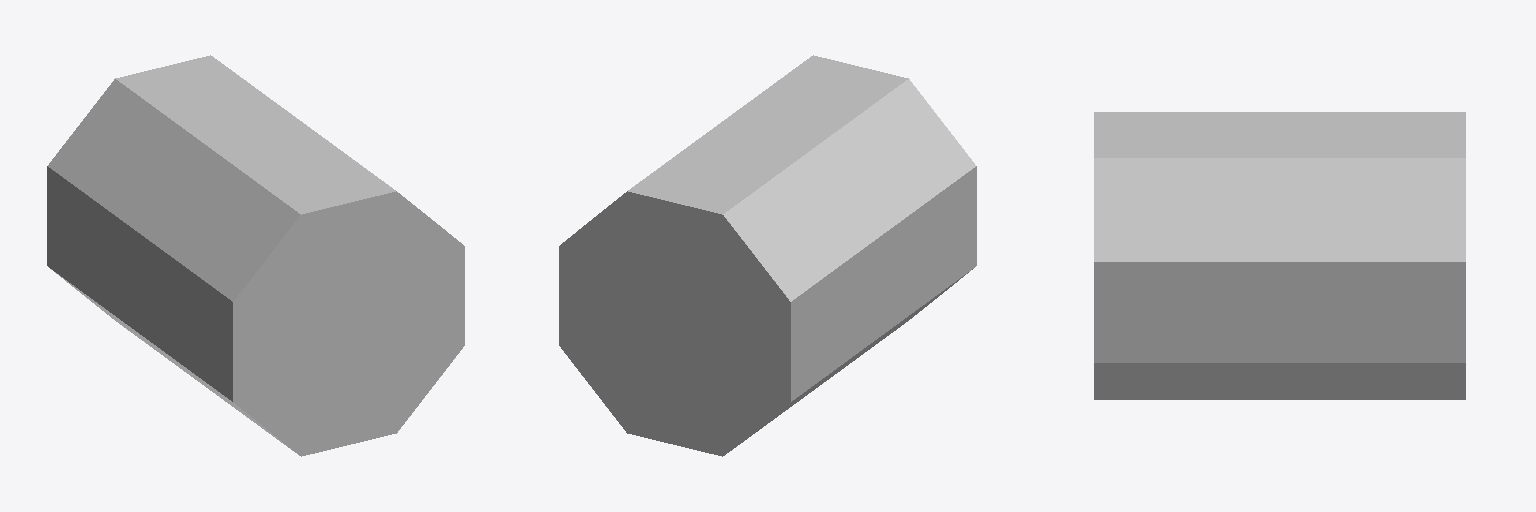
Rendered from icub_simple_collision_l_ankle_1.obj.
3 views of the same model, side by side, from view 1: azimuth 30°, elevation 25°; view 2: azimuth 150°, elevation 25°; view 3: azimuth 270°, elevation 25° (orthographic).
Parts seen in each view (by area): view 1: l_ankle_1_mesh_Cylinder.026; view 2: l_ankle_1_mesh_Cylinder.026; view 3: l_ankle_1_mesh_Cylinder.026.
Boxes of the visible parts, box(x1,y1,x2,y2) form: l_ankle_1_mesh_Cylinder.026: box(47, 55, 464, 456); l_ankle_1_mesh_Cylinder.026: box(559, 55, 976, 456); l_ankle_1_mesh_Cylinder.026: box(1094, 112, 1465, 399).
Bounding box in the file's own units: 0.0453 × 0.0453 × 0.063.